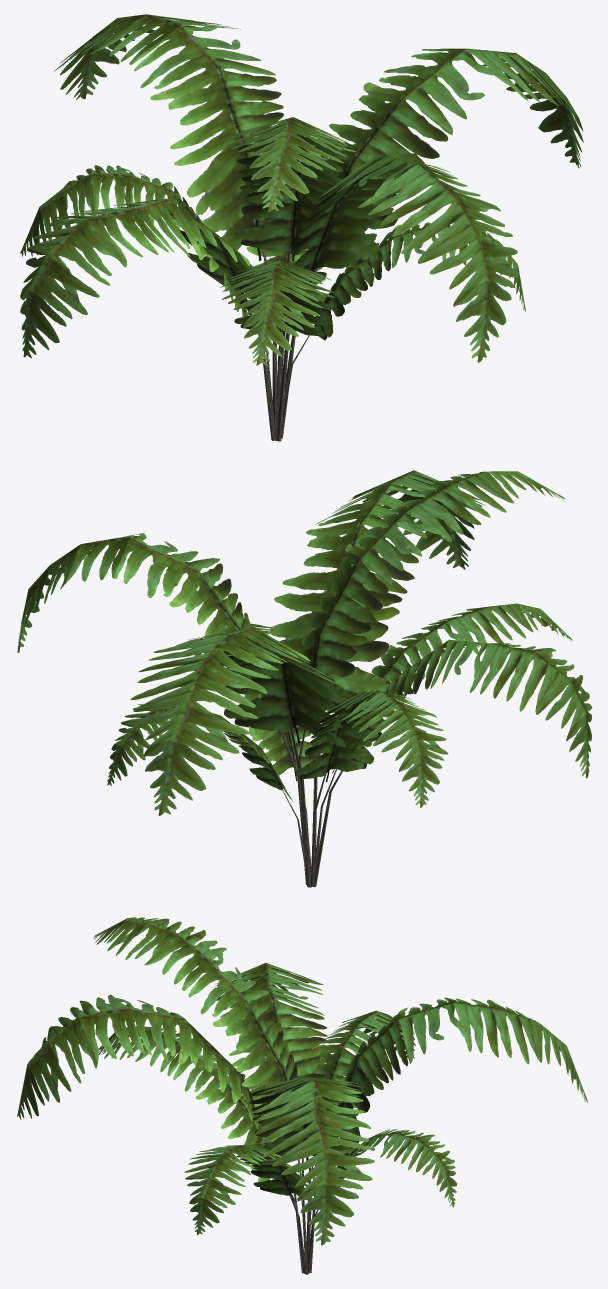
The model's file is Fern-05.fbx.
3 renders of one model, top to bottom at view 1: azimuth 30°, elevation 25°; view 2: azimuth 150°, elevation 25°; view 3: azimuth 270°, elevation 25°, orthographic. The views are drawn at different scales.
Visible parts, largest first — view 1: Fern-05; view 2: Fern-05; view 3: Fern-05.
Boxes of the visible parts, <box> form: Fern-05: <box>20,14,583,441</box>; Fern-05: <box>17,470,592,887</box>; Fern-05: <box>17,917,587,1274</box>.
Size of the model in its own units: 2.77 by 1.8 by 2.99.
